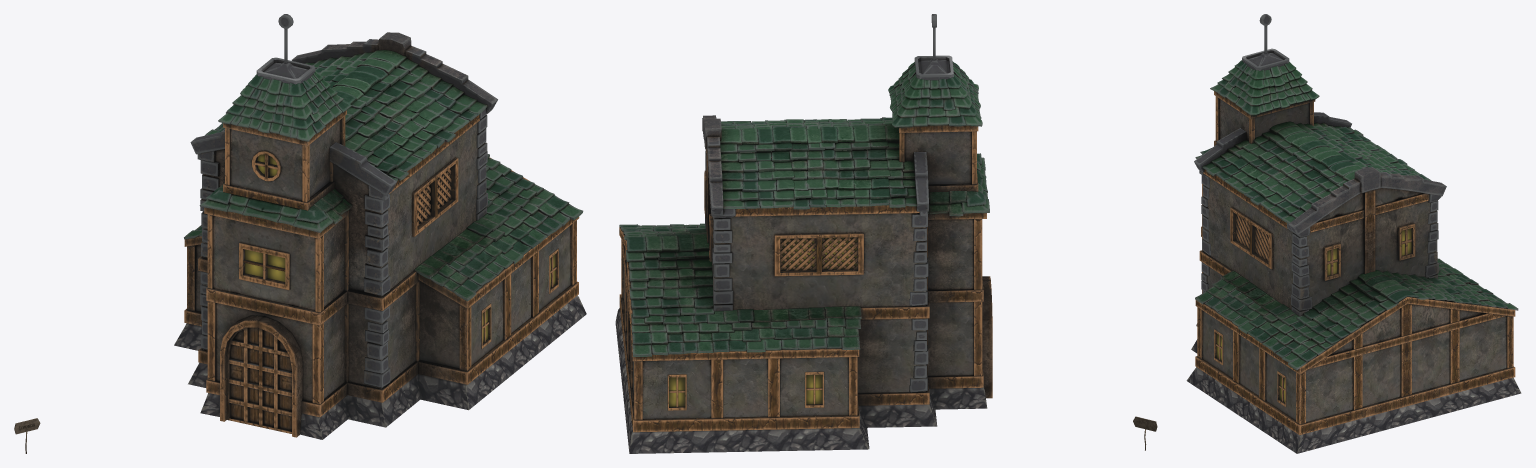
File: house.gltf
The picture shows the model from 3 angles, left to right: view 1: azimuth 30°, elevation 25°; view 2: azimuth 150°, elevation 25°; view 3: azimuth 270°, elevation 25°; orthographic projection. The views are drawn at different scales.
Visible parts, largest first — view 1: house; view 2: house; view 3: house.
Part boxes in pixels (<box>): house: <box>14,14,586,453</box>; house: <box>615,14,1157,453</box>; house: <box>1186,14,1521,453</box>.
Size of the model in its own units: 42.46 by 27.7 by 26.73.
Materials: 2 (2 with a texture image).
